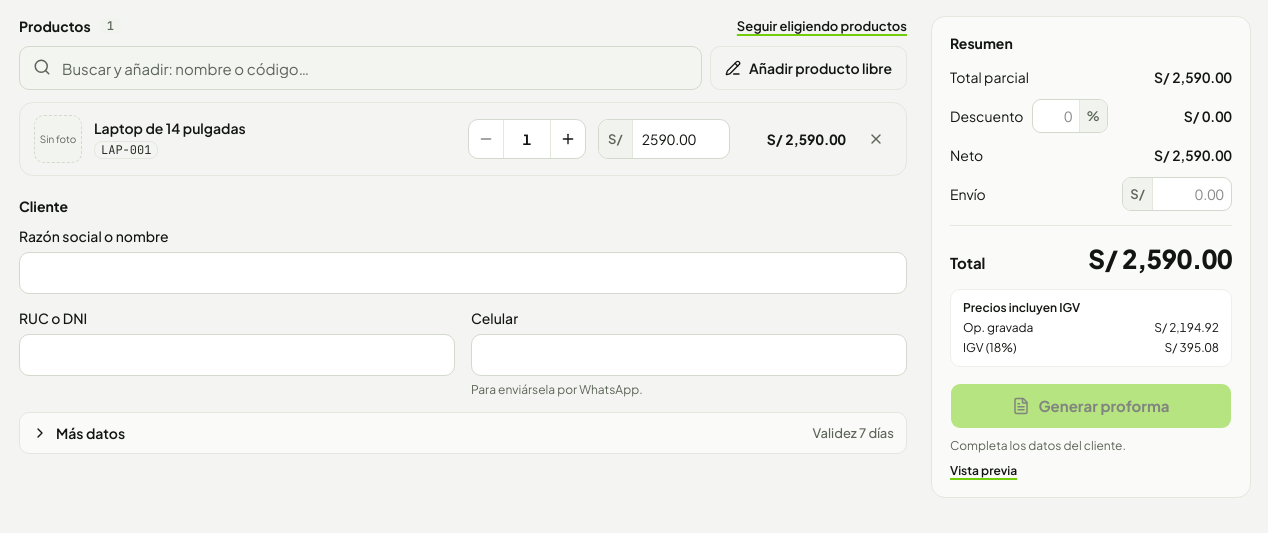
it: ProformaEditor › avisa sin bloquear si SUNAT no lo tiene activo y habido
Type "20000000001" into the field labelled "RUC o DNI".
click(237, 355); type("20000000001")  # box top-left (19, 334), bottom-right (455, 376)
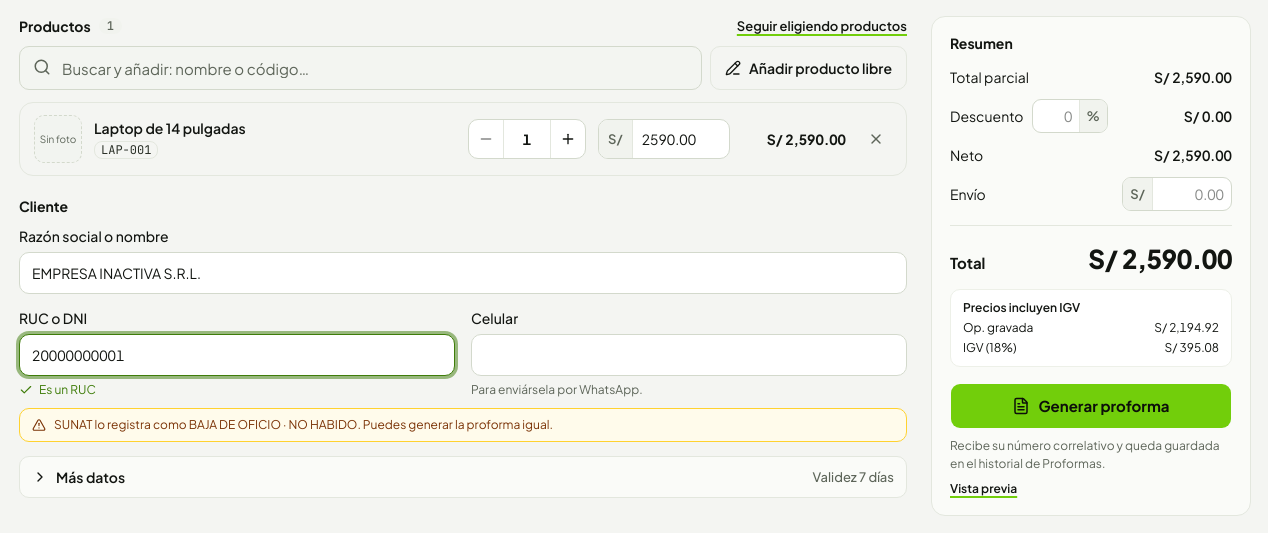
expect the text "SUNAT lo registra como BAJA DE OFICIO · NO HABIDO" is shown: met, box top-left (19, 408), bottom-right (907, 442)
expect the button "Generar proforma" is enabled: met, box top-left (950, 383), bottom-right (1232, 429)
